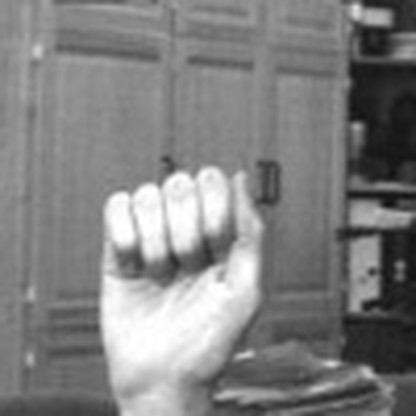a: (63, 153, 291, 411)
